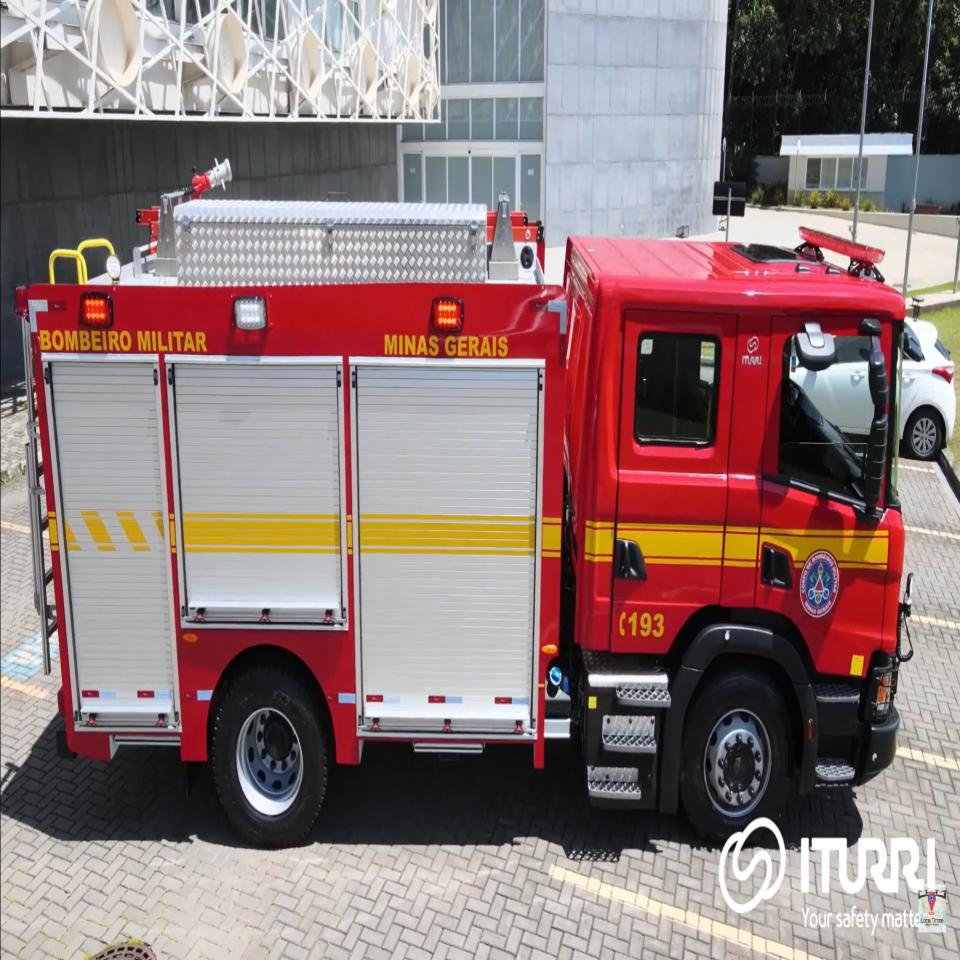viatura: (15, 158, 916, 850)
